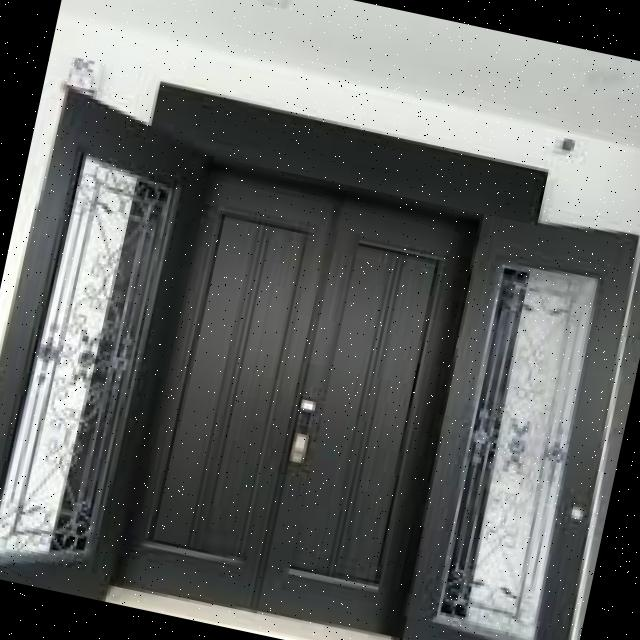Door: (100, 155, 489, 640), (391, 195, 640, 640), (0, 71, 202, 599)
